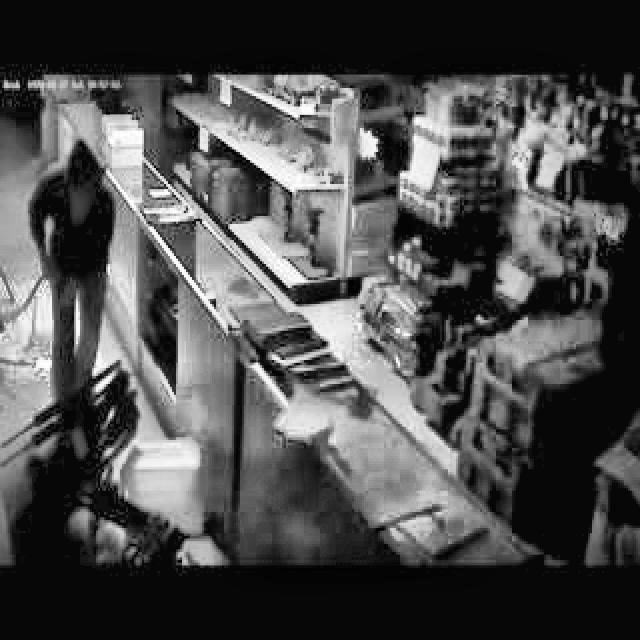burglary: (0, 137, 195, 566)
